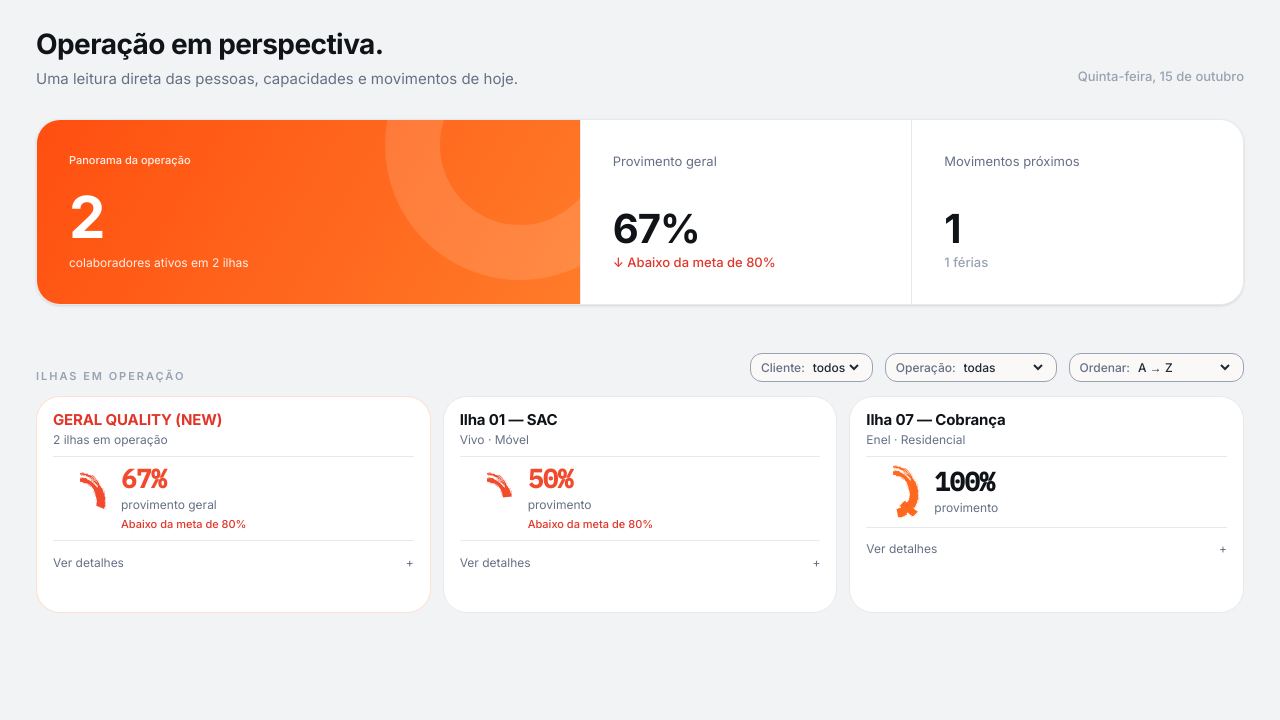
Test case: Visão geral › recorta o mapa pela operação escolhida no chip
The image size is (1280, 720).
Expected: the heading "Ilha 01 — SAC" is shown, [460, 410, 558, 429]
Select "Residencial" in the dropdown named "Filtrar ilhas por operação" at (1003, 368), box [960, 359, 1046, 376]
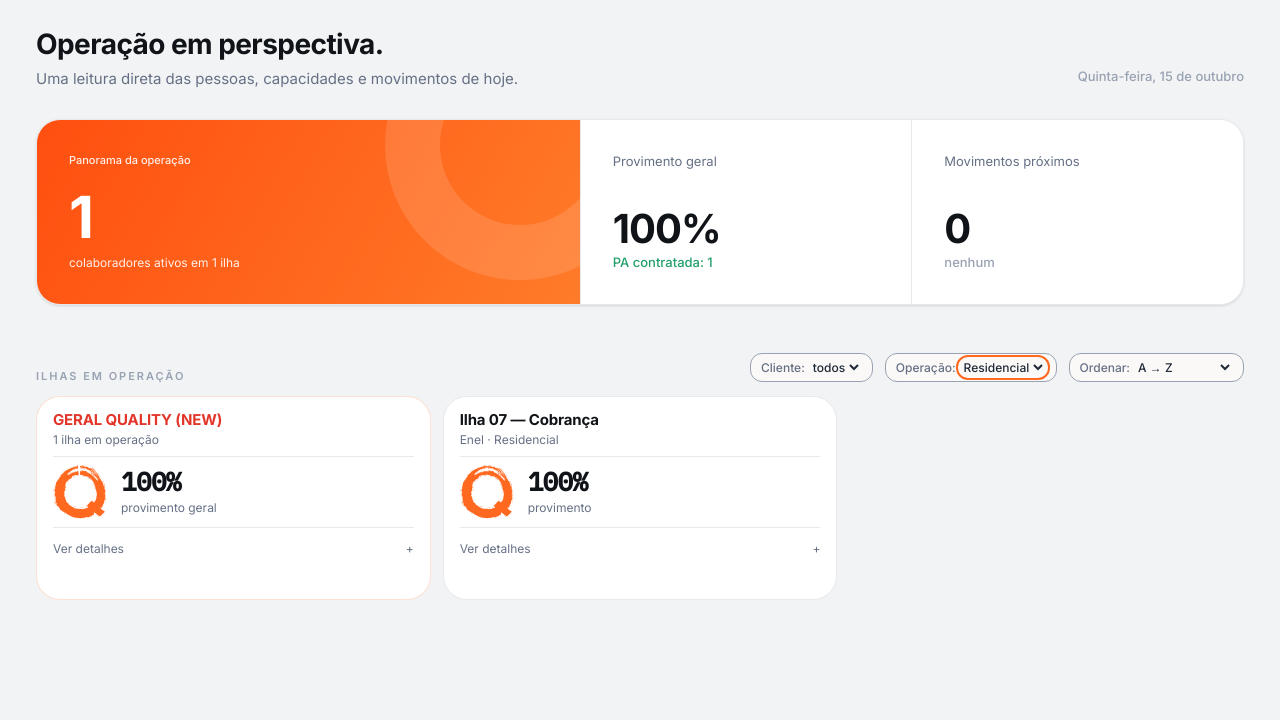
Expected: the heading "Ilha 07 — Cobrança" is shown, [460, 410, 599, 429]
Now the button "Ilha 01 — SAC" is gone
